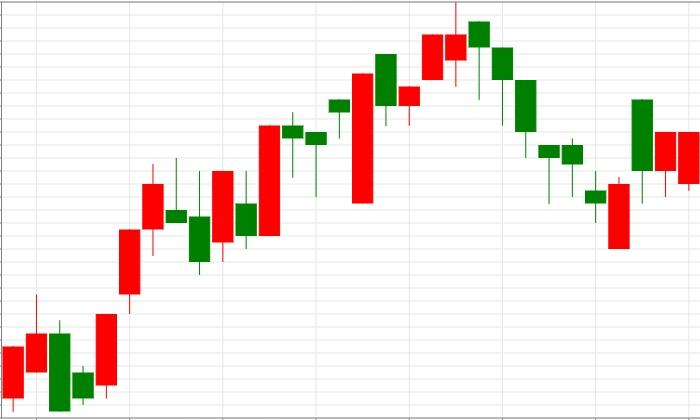hanging_man_fall: (351, 3, 490, 204)
